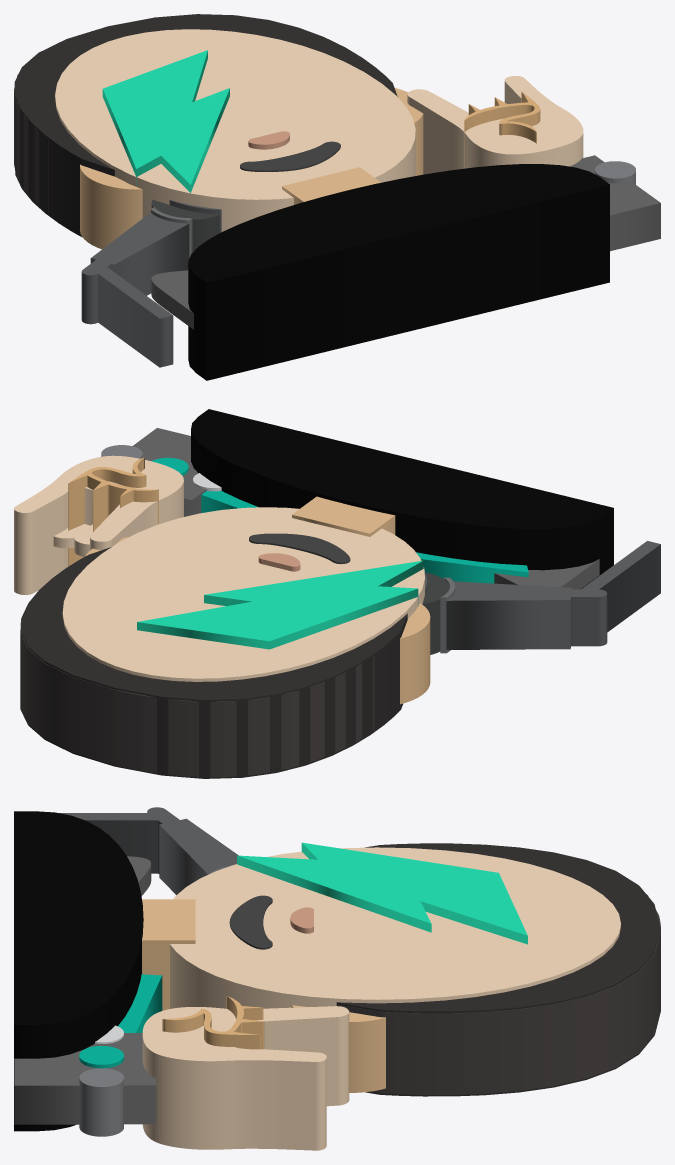
The model's file is emoji_u1f468_1f3fb_200d_1f3a4.glb.
3 renders of one model, top to bottom at view 1: azimuth 30°, elevation 25°; view 2: azimuth 150°, elevation 25°; view 3: azimuth 270°, elevation 25°, orthographic. The views are drawn at different scales.
Parts seen in each view (by area): view 1: emoji_u1f468_1f3fb_200d_1f3a4; view 2: emoji_u1f468_1f3fb_200d_1f3a4; view 3: emoji_u1f468_1f3fb_200d_1f3a4.
Part boxes in pixels (x1,y1,x2,y2): emoji_u1f468_1f3fb_200d_1f3a4: (14,14,660,380); emoji_u1f468_1f3fb_200d_1f3a4: (14,409,660,778); emoji_u1f468_1f3fb_200d_1f3a4: (14,807,660,1150).
Bounding box in the file's own units: 0.0337 × 0.0064 × 0.0331.
